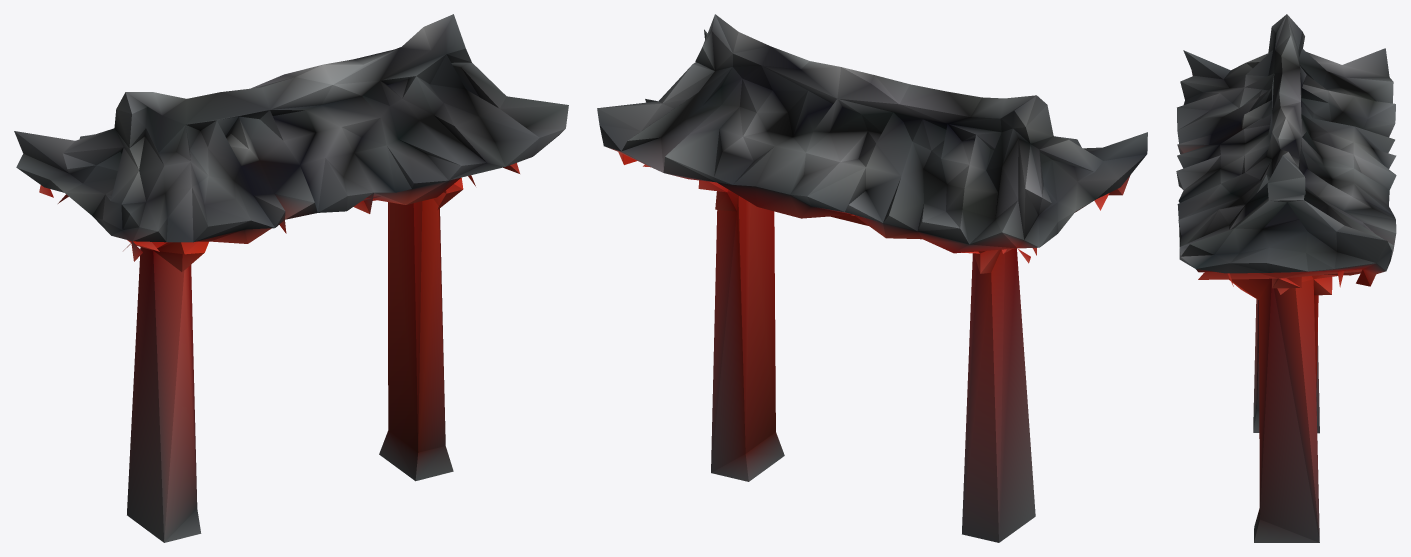
The model's file is gate-mobile.glb.
The picture shows the model from 3 angles, left to right: view 1: azimuth 30°, elevation 25°; view 2: azimuth 150°, elevation 25°; view 3: azimuth 270°, elevation 25°; orthographic projection. The views are drawn at different scales.
Bounding box in the file's own units: 3.59 × 3.4 × 1.72.
